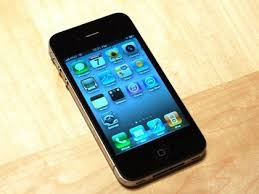iphone: (46, 8, 211, 191)
iphone4: (46, 8, 211, 191)
